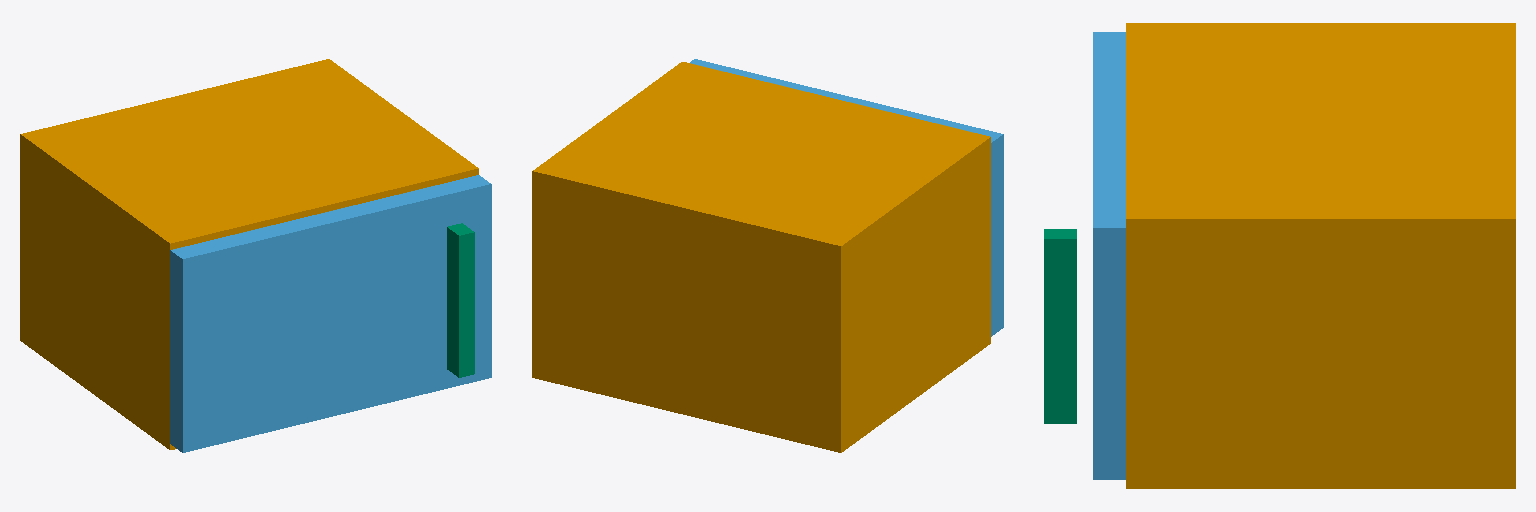
The robot description file, URDF, robot "agentpre_microwave_fixture":
<?xml version="1.0"?>
<!-- Deterministic test fixture. Replace this path in config with an Articraft export for real runs. -->
<robot name="agentpre_microwave_fixture">
  <link name="microwave_base">
    <inertial>
      <origin xyz="0 0 0" rpy="0 0 0"/>
      <mass value="18.0"/>
      <inertia ixx="0.4182" ixy="0" ixz="0" iyy="0.5286" iyz="0" izz="0.6396"/>
    </inertial>
    <visual>
      <geometry><mesh filename="meshes/unit_cube.obj" scale="0.50 0.42 0.32"/></geometry>
    </visual>
    <collision>
      <geometry><box size="0.50 0.42 0.32"/></geometry>
    </collision>
  </link>

  <link name="microwave_door">
    <inertial>
      <origin xyz="0.25 0 0" rpy="0 0 0"/>
      <mass value="3.0"/>
      <inertia ixx="0.02280625" ixy="0" ixz="0" iyy="0.085" iyz="0" izz="0.06280625"/>
    </inertial>
    <visual>
      <origin xyz="0.25 0 0" rpy="0 0 0"/>
      <geometry><mesh filename="meshes/unit_cube.obj" scale="0.50 0.035 0.30"/></geometry>
    </visual>
    <collision>
      <origin xyz="0.25 0 0" rpy="0 0 0"/>
      <geometry><box size="0.50 0.035 0.30"/></geometry>
    </collision>
  </link>

  <joint name="door_hinge" type="revolute">
    <parent link="microwave_base"/>
    <child link="microwave_door"/>
    <origin xyz="-0.25 -0.2275 0" rpy="0 0 0"/>
    <axis xyz="0 0 -1"/>
    <limit lower="0.0" upper="1.3962634016" effort="80" velocity="1.5"/>
    <dynamics damping="0.8" friction="0.2"/>
  </joint>

  <link name="handle">
    <inertial>
      <origin xyz="0 0 0" rpy="0 0 0"/>
      <mass value="0.4"/>
      <inertia ixx="0.00165417" ixy="0" ixz="0" iyy="0.00163417" iyz="0" izz="0.00006167"/>
    </inertial>
    <visual>
      <geometry><mesh filename="meshes/unit_cube.obj" scale="0.025 0.035 0.22"/></geometry>
    </visual>
    <collision>
      <geometry><box size="0.025 0.035 0.22"/></geometry>
    </collision>
  </link>

  <joint name="handle_mount" type="fixed">
    <parent link="microwave_door"/>
    <child link="handle"/>
    <origin xyz="0.43 -0.0525 0" rpy="0 0 0"/>
  </joint>
</robot>

--- What the picture shows (computed from the rendered views, not written in the file) ---
Views: 3 orthographic renders of the robot side by side, from view 1: azimuth 30°, elevation 25°; view 2: azimuth 150°, elevation 25°; view 3: azimuth 270°, elevation 25°.
Robot: agentpre_microwave_fixture — 3 links, 2 joints (1 revolute, 1 fixed); root link microwave_base; default pose: all joints at 0.
Visible links, largest first — view 1: microwave_base, microwave_door, handle; view 2: microwave_base, microwave_door; view 3: microwave_base, microwave_door, handle.
Boxes of the visible links, box(x1,y1,x2,y2) form: microwave_base: box(20, 59, 478, 449); microwave_door: box(170, 175, 491, 452); handle: box(447, 223, 474, 377); microwave_base: box(532, 62, 990, 452); microwave_door: box(690, 59, 1003, 336); microwave_base: box(1126, 23, 1515, 488); microwave_door: box(1093, 32, 1125, 479); handle: box(1044, 229, 1076, 423).
Bounding box of the posed robot: 0.5 × 0.5075 × 0.32 m (x, y, z).
3 mesh visuals loaded from 1 distinct referenced files (1 OBJ).
